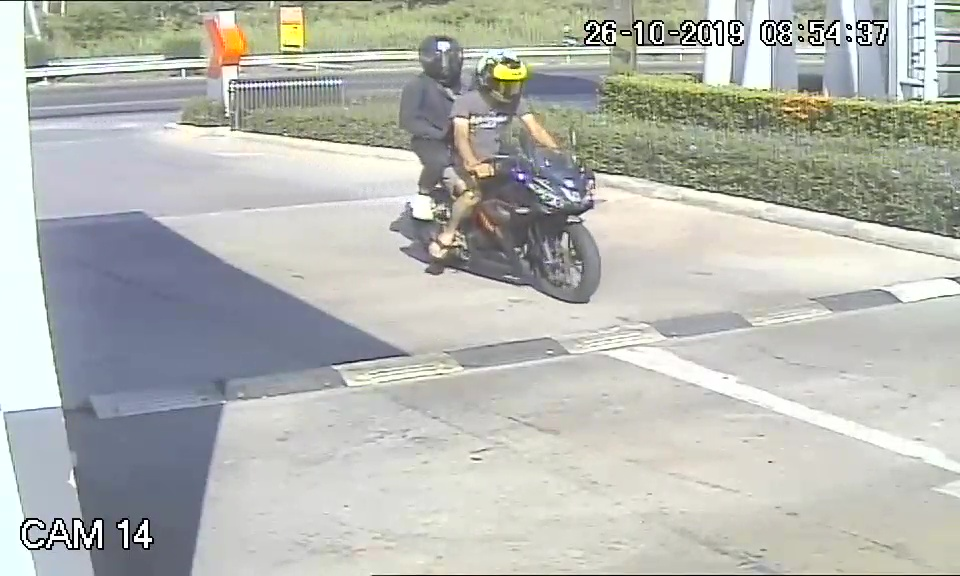motorcycle: (405, 146, 603, 304)
